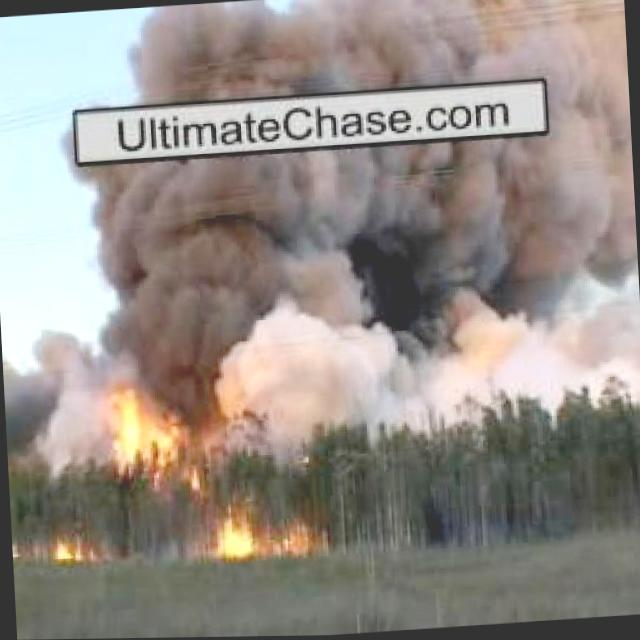helmet: (108, 367, 192, 479), (212, 508, 259, 559), (46, 539, 98, 566), (285, 525, 315, 554)
no_helmet: (75, 126, 640, 440), (123, 0, 627, 107)
